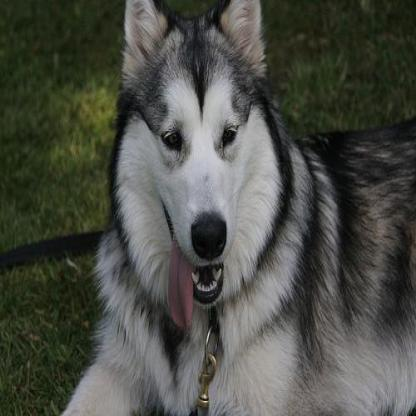malamute: (60, 0, 414, 414)
